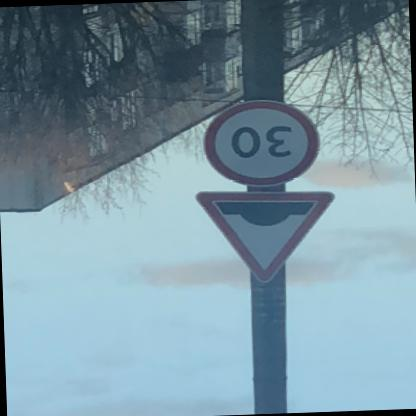speedlimit: (203, 100, 324, 190)
